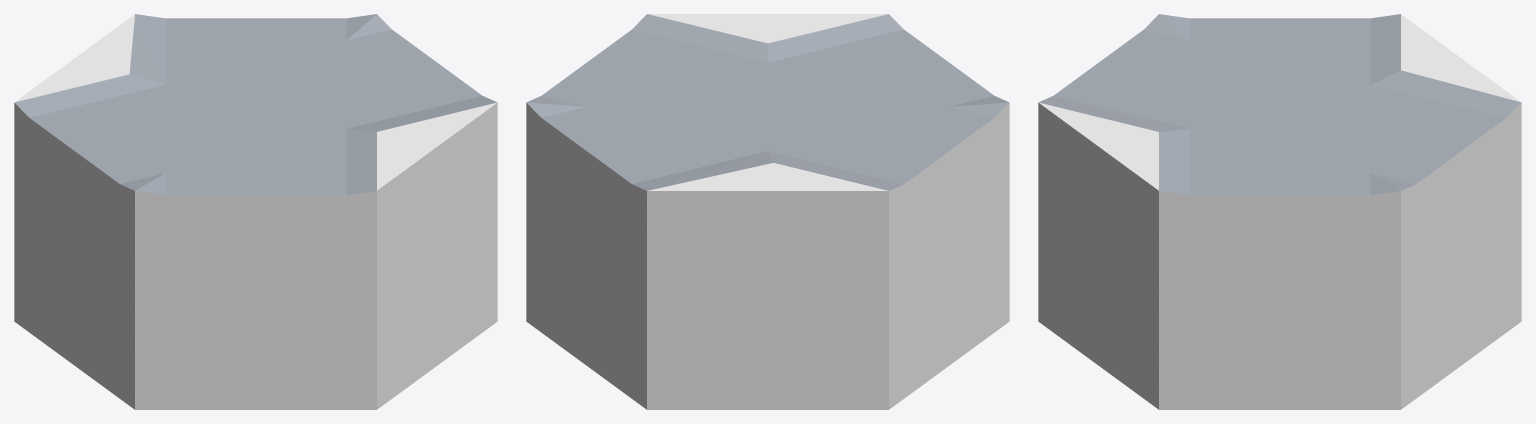
File: snow_road6.fbx
The picture shows the model from 3 angles, left to right: view 1: azimuth 30°, elevation 25°; view 2: azimuth 150°, elevation 25°; view 3: azimuth 270°, elevation 25°; orthographic projection.
Parts seen in each view (by area): view 1: Cylinder; view 2: Cylinder; view 3: Cylinder.
Boxes of the visible parts, x1=… form: Cylinder: x1=14, y1=14, x2=497, y2=409; Cylinder: x1=526, y1=14, x2=1009, y2=409; Cylinder: x1=1038, y1=14, x2=1521, y2=409.
Size of the model in its own units: 1.73 by 1 by 2.
